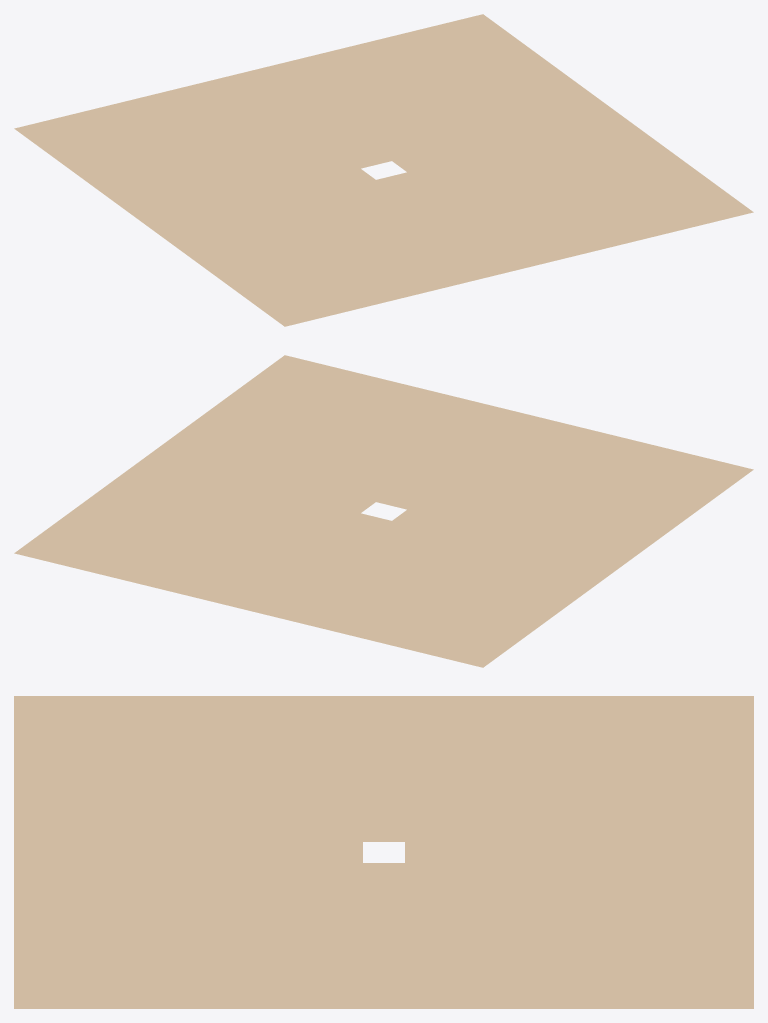
The picture shows the model from 3 angles, top to bottom: view 1: azimuth 30°, elevation 25°; view 2: azimuth 150°, elevation 25°; view 3: azimuth 270°, elevation 25°; orthographic projection. The views are drawn at different scales.
Visible parts, largest first — view 1: FarGround_L1_1; view 2: FarGround_L1_1; view 3: FarGround_L1_1.
Part boxes in pixels (<box>): FarGround_L1_1: <box>14,14,753,326</box>; FarGround_L1_1: <box>14,355,753,667</box>; FarGround_L1_1: <box>14,696,753,1008</box>.
Bounding box in the file's own units: 6000 × 0 × 6000.
